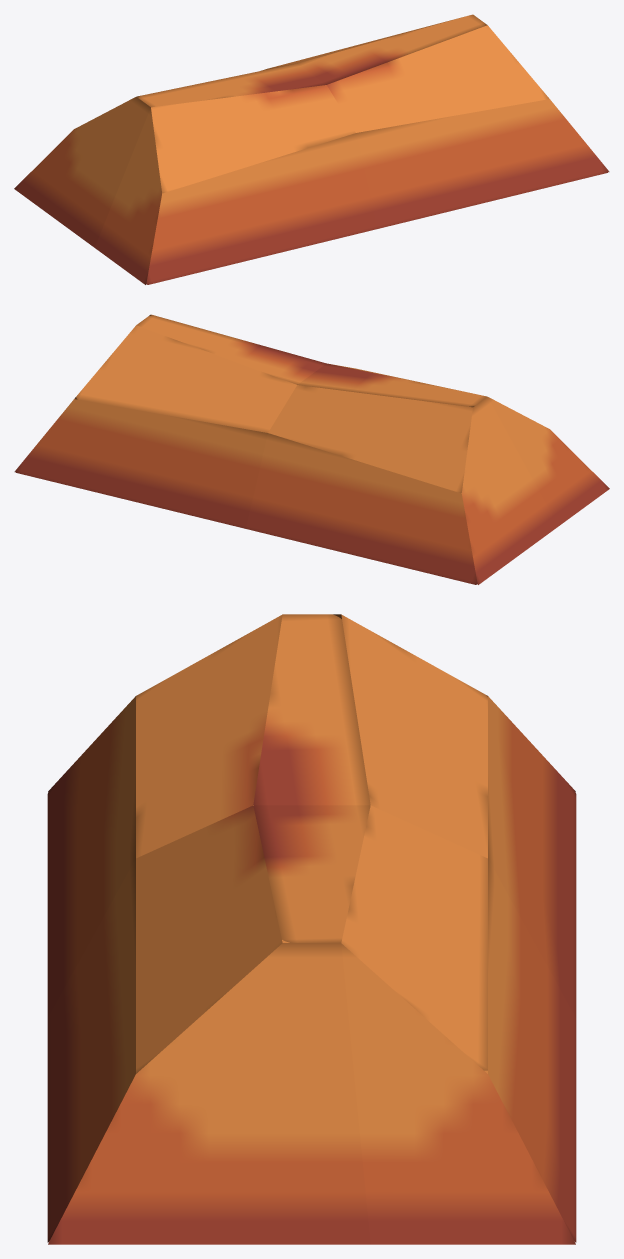
Rendered from planterSmall.fbx.
The picture shows the model from 3 angles, top to bottom: view 1: azimuth 30°, elevation 25°; view 2: azimuth 150°, elevation 25°; view 3: azimuth 270°, elevation 25°; orthographic projection. The views are drawn at different scales.
Visible parts, largest first — view 1: cuboid; view 2: cuboid; view 3: cuboid.
Boxes of the visible parts, box(x1,y1,x2,y2) form: cuboid: box(14, 14, 609, 284); cuboid: box(14, 314, 609, 584); cuboid: box(47, 614, 576, 1244).
Bounding box in the file's own units: 228 × 56.25 × 112.
Materials: 1 (1 with a texture image).
